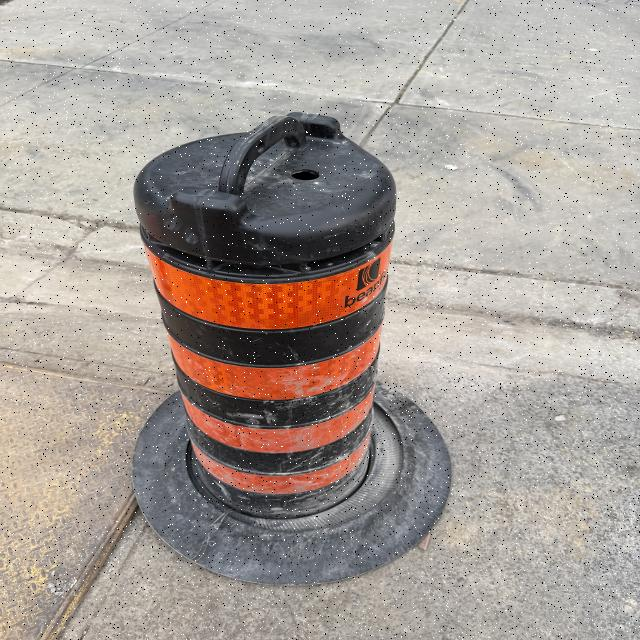Teraffic Barrel: (134, 113, 448, 582)
